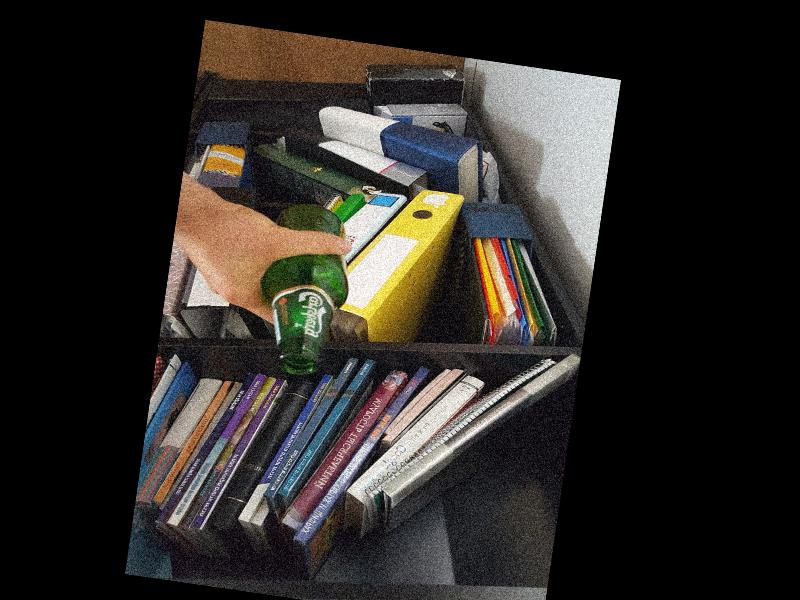Beer: (251, 197, 358, 379)
